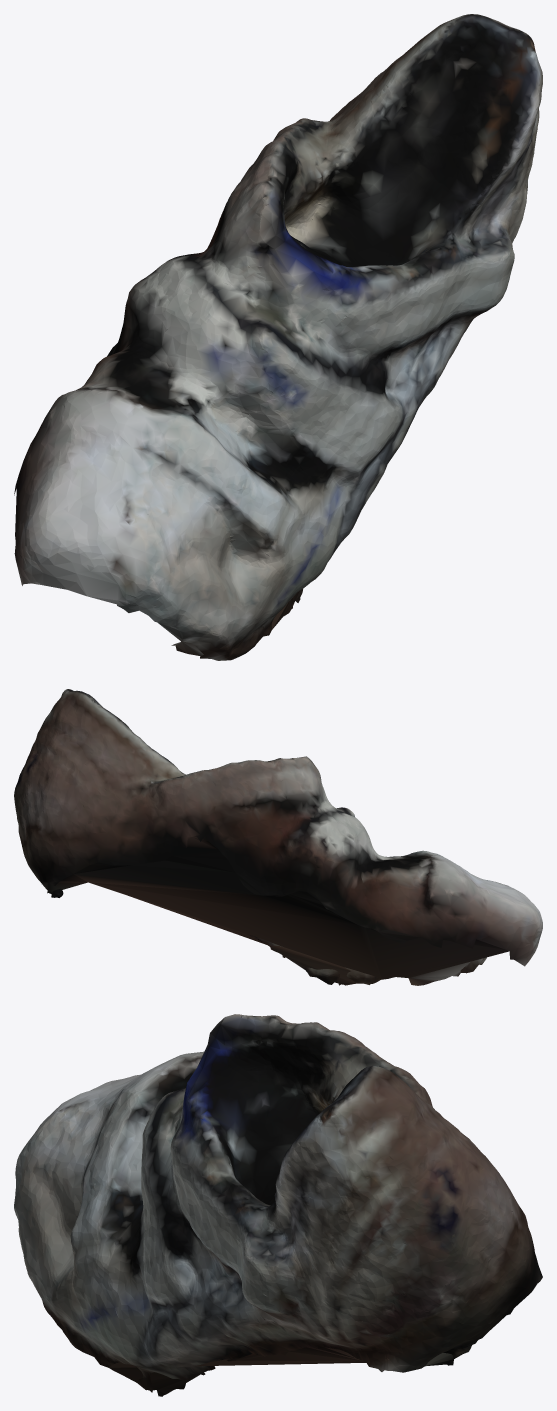
File: 191214_meta_harue5.obj
3 views of the same model, one above another, from view 1: azimuth 30°, elevation 25°; view 2: azimuth 150°, elevation 25°; view 3: azimuth 270°, elevation 25° (orthographic). The views are drawn at different scales.
Bounding box in the file's own units: 1.39 × 0.9494 × 0.9675.
